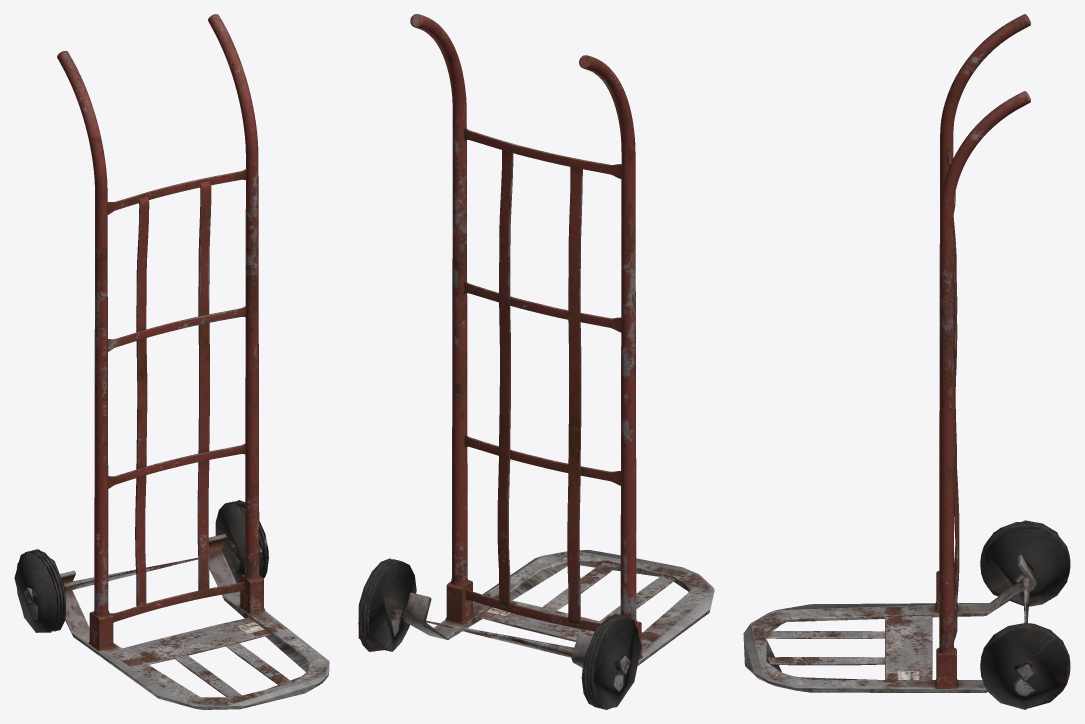
Rendered from hand_truck.glb.
3 views of the same model, side by side, from view 1: azimuth 30°, elevation 25°; view 2: azimuth 150°, elevation 25°; view 3: azimuth 270°, elevation 25° (orthographic). The views are drawn at different scales.
Parts seen in each view (by area): view 1: hand_truck; view 2: hand_truck; view 3: hand_truck.
Part boxes in pixels (x1,y1,x2,y2): hand_truck: (14, 14, 329, 709); hand_truck: (358, 14, 714, 709); hand_truck: (743, 14, 1070, 709).
Bounding box in the file's own units: 0.5789 × 1.4 × 0.6908.
Materials: 1 (1 with a texture image).
